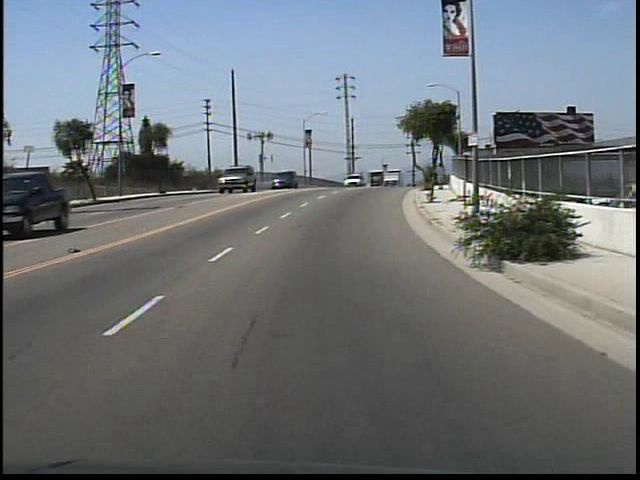person: (436, 162, 448, 193)
